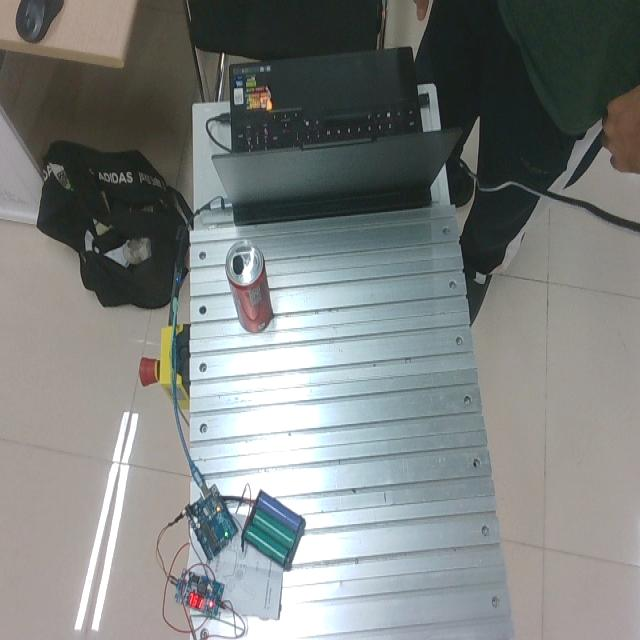coca: (224, 240, 273, 333)
